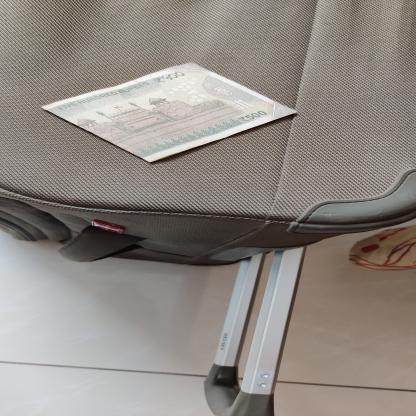New500Back: (41, 61, 300, 164)
